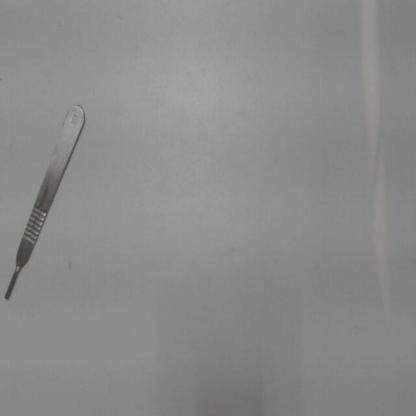No.3 BP Handle: (1, 95, 100, 305)
